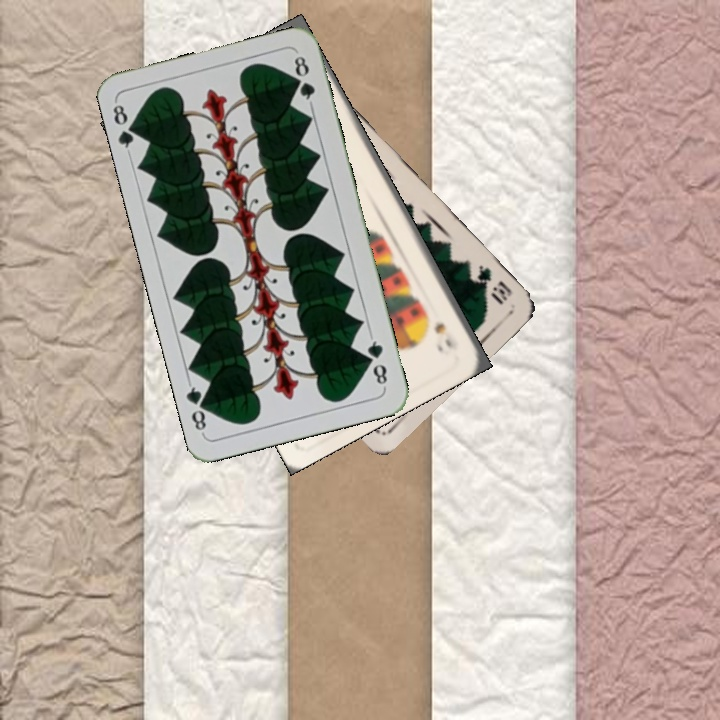G10: (473, 261, 515, 308)
G8: (108, 98, 142, 156), (363, 332, 390, 390)
S10: (430, 318, 461, 353)
